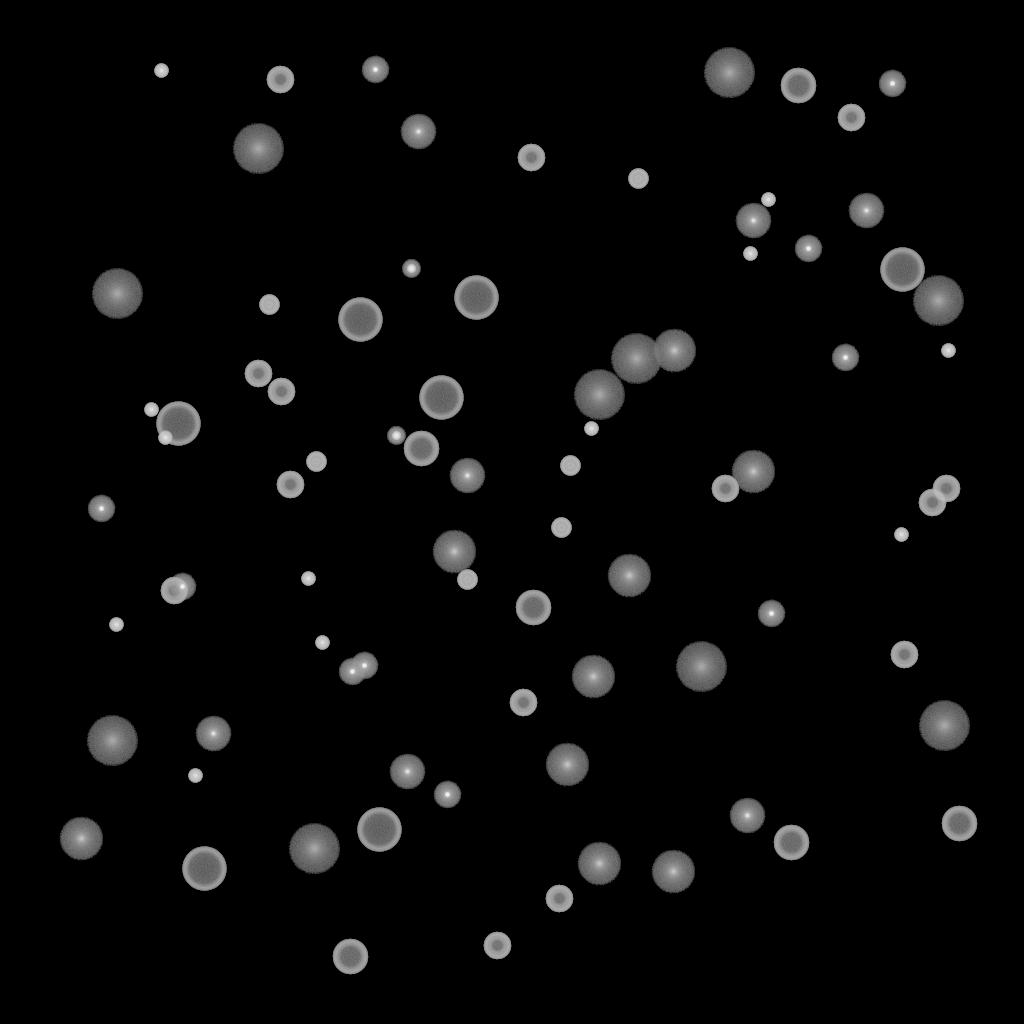depth:-10: (168, 573, 196, 601), (878, 70, 906, 98), (433, 781, 461, 809), (831, 344, 859, 372), (87, 495, 115, 523), (794, 235, 822, 263), (757, 600, 785, 628), (350, 652, 378, 680), (338, 658, 366, 686), (361, 56, 389, 84)
depth:-20: (402, 260, 420, 278), (387, 427, 405, 445)
depth:-30: (743, 247, 757, 261), (584, 422, 598, 436), (188, 769, 202, 783), (158, 431, 172, 445), (109, 618, 123, 632), (315, 636, 329, 650), (301, 572, 315, 586), (894, 528, 908, 542), (144, 403, 158, 417), (941, 344, 955, 358), (154, 64, 168, 78), (761, 193, 775, 207)
depth:-40: (560, 456, 580, 476), (259, 295, 279, 315), (551, 518, 571, 538), (628, 169, 648, 189), (306, 452, 326, 472), (457, 570, 477, 590)
depth:-50: (483, 932, 511, 960), (890, 641, 918, 669), (837, 104, 865, 132), (711, 475, 739, 503), (509, 689, 537, 717), (918, 489, 946, 517), (160, 577, 188, 605), (517, 144, 545, 172), (267, 378, 295, 406), (244, 360, 272, 388), (266, 66, 294, 94), (545, 885, 573, 913), (932, 475, 960, 503), (276, 471, 304, 499)
depth:-60: (515, 590, 551, 626), (403, 431, 439, 467), (780, 68, 816, 104), (941, 806, 977, 842), (773, 825, 809, 861), (332, 939, 368, 975)
depth:-70: (357, 808, 401, 852), (454, 276, 498, 320), (338, 298, 382, 342), (880, 248, 924, 292), (156, 402, 200, 446), (419, 376, 463, 420), (182, 847, 226, 891)
depth:0: (389, 754, 425, 790), (400, 114, 436, 150), (735, 203, 771, 239), (848, 193, 884, 229), (729, 798, 765, 834), (195, 716, 231, 752), (449, 458, 485, 494)
depth:10: (651, 850, 695, 894), (59, 817, 103, 861), (652, 329, 696, 373), (571, 655, 615, 699), (545, 743, 589, 787), (432, 530, 476, 574), (731, 450, 775, 494), (607, 554, 651, 598), (577, 842, 621, 886)
depth:20: (573, 370, 625, 420), (610, 334, 662, 384), (232, 124, 284, 174), (91, 269, 143, 319), (86, 716, 138, 766), (288, 824, 340, 874), (675, 642, 727, 692), (703, 48, 755, 98), (912, 276, 964, 326), (918, 701, 970, 751)
